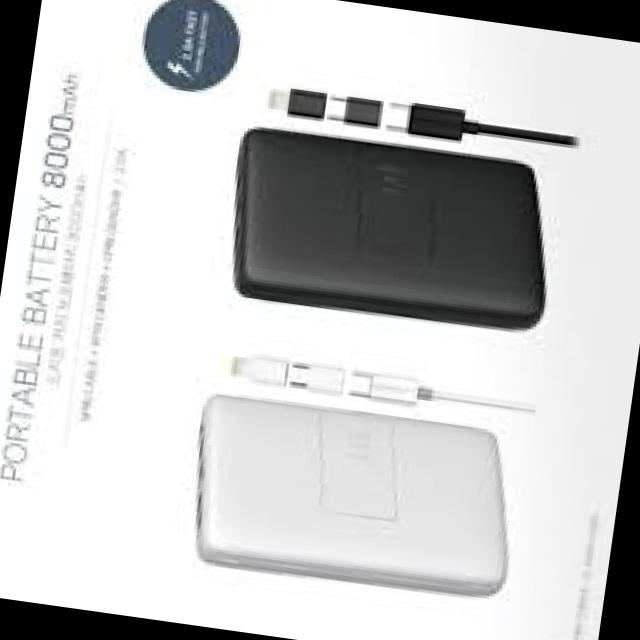portable-charger: (213, 112, 572, 344), (179, 379, 528, 609)
